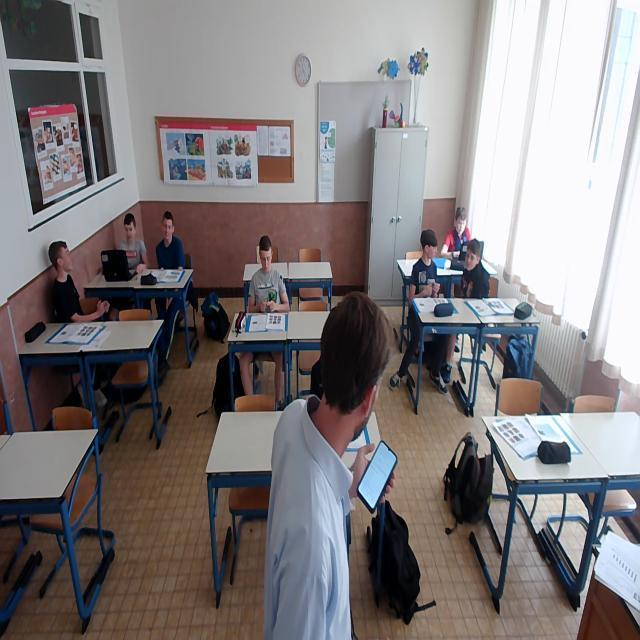Looking away: (52, 237, 84, 281), (417, 227, 441, 266), (256, 238, 278, 280), (448, 210, 471, 239)
Looking forward: (464, 240, 484, 279), (119, 210, 138, 244), (162, 210, 178, 248)
Phone use: (358, 428, 399, 512)
